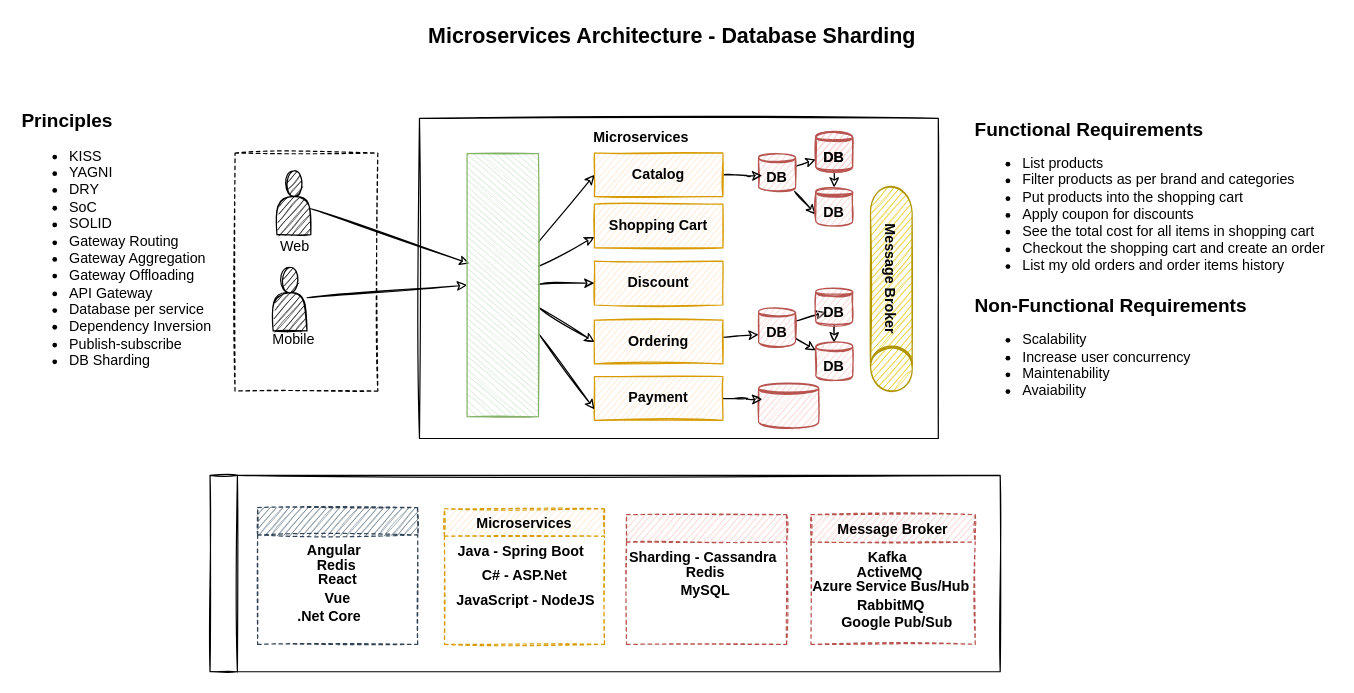
This 1354x693 diagram has some shape labels left out. Here are the shapes that lost their labels. From the top down, the box of each, then its label:
(466, 152, 538, 417): API Gateway
(757, 381, 819, 428): RDBMS
(256, 506, 418, 644): UI
(209, 474, 1000, 672): Technology stack
(625, 513, 787, 644): Databases
